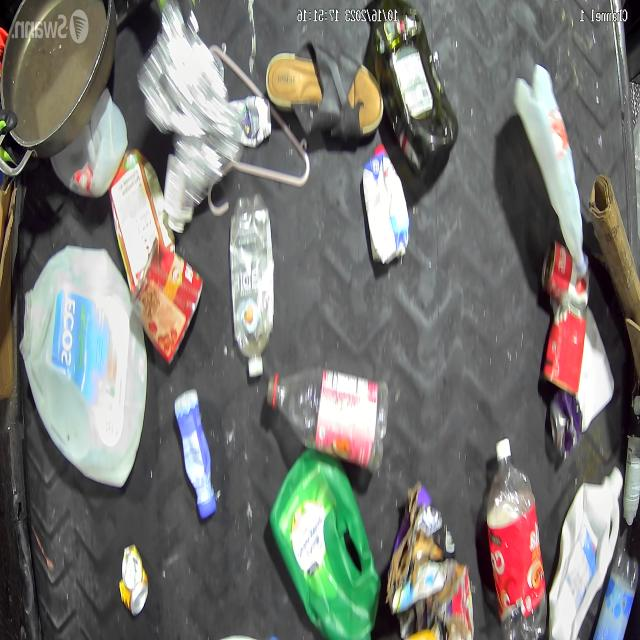can: (131, 238, 203, 364), (540, 236, 591, 308), (548, 388, 582, 461), (118, 543, 149, 617)
milk_jug: (18, 244, 148, 489), (512, 63, 590, 278), (546, 465, 624, 640), (49, 86, 128, 200)
non_white_jug: (268, 445, 382, 640)
plastic_bottle: (372, 0, 458, 176), (485, 434, 548, 640), (266, 365, 390, 441), (230, 192, 276, 377), (174, 388, 217, 519), (593, 542, 639, 640)
